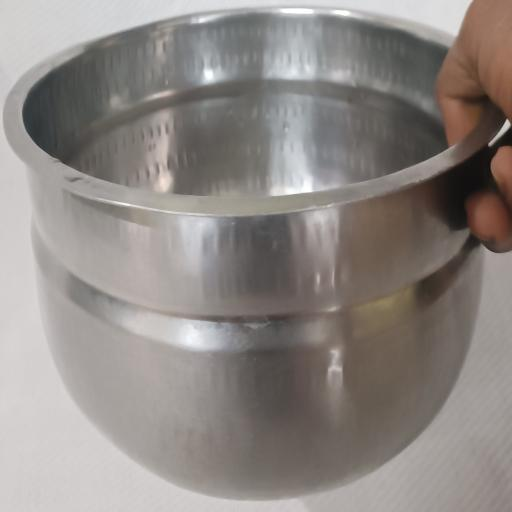vessel: (4, 8, 504, 499)
